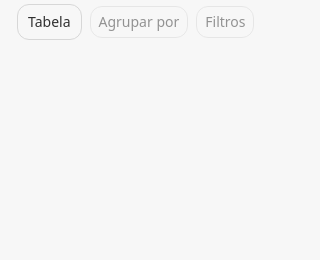
Test case: DatabaseViewToolbar › não oferece conversão para Form sem coluna Flow disponível
The image size is (320, 260).
Click the dropdown named "Tipo de visualização" at coordinates (49, 22), box [17, 4, 82, 40]
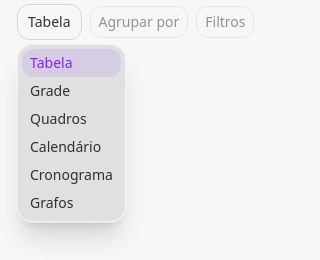
Expected: the option "Tabela" is shown, [22, 49, 121, 77]
